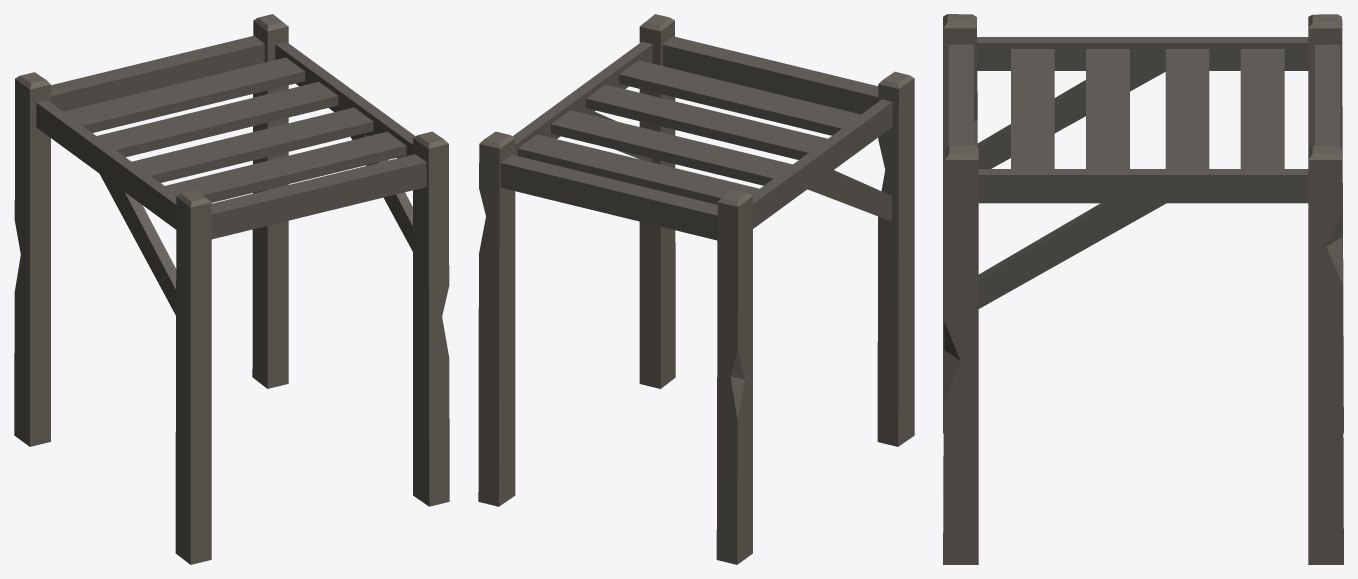
The model's file is SM_Bld_Village_ClothCover_04.glb.
3 views of the same model, side by side, from view 1: azimuth 30°, elevation 25°; view 2: azimuth 150°, elevation 25°; view 3: azimuth 270°, elevation 25° (orthographic). The views are drawn at different scales.
Parts seen in each view (by area): view 1: SM_Bld_Village_ClothCover_04; view 2: SM_Bld_Village_ClothCover_04; view 3: SM_Bld_Village_ClothCover_04.
Part boxes in pixels (x1,y1,x2,y2): SM_Bld_Village_ClothCover_04: (14, 14, 449, 564); SM_Bld_Village_ClothCover_04: (478, 14, 914, 564); SM_Bld_Village_ClothCover_04: (943, 14, 1343, 564).
Bounding box in the file's own units: 2.14 × 2.85 × 2.53.
Materials: 1 (1 with a texture image).
